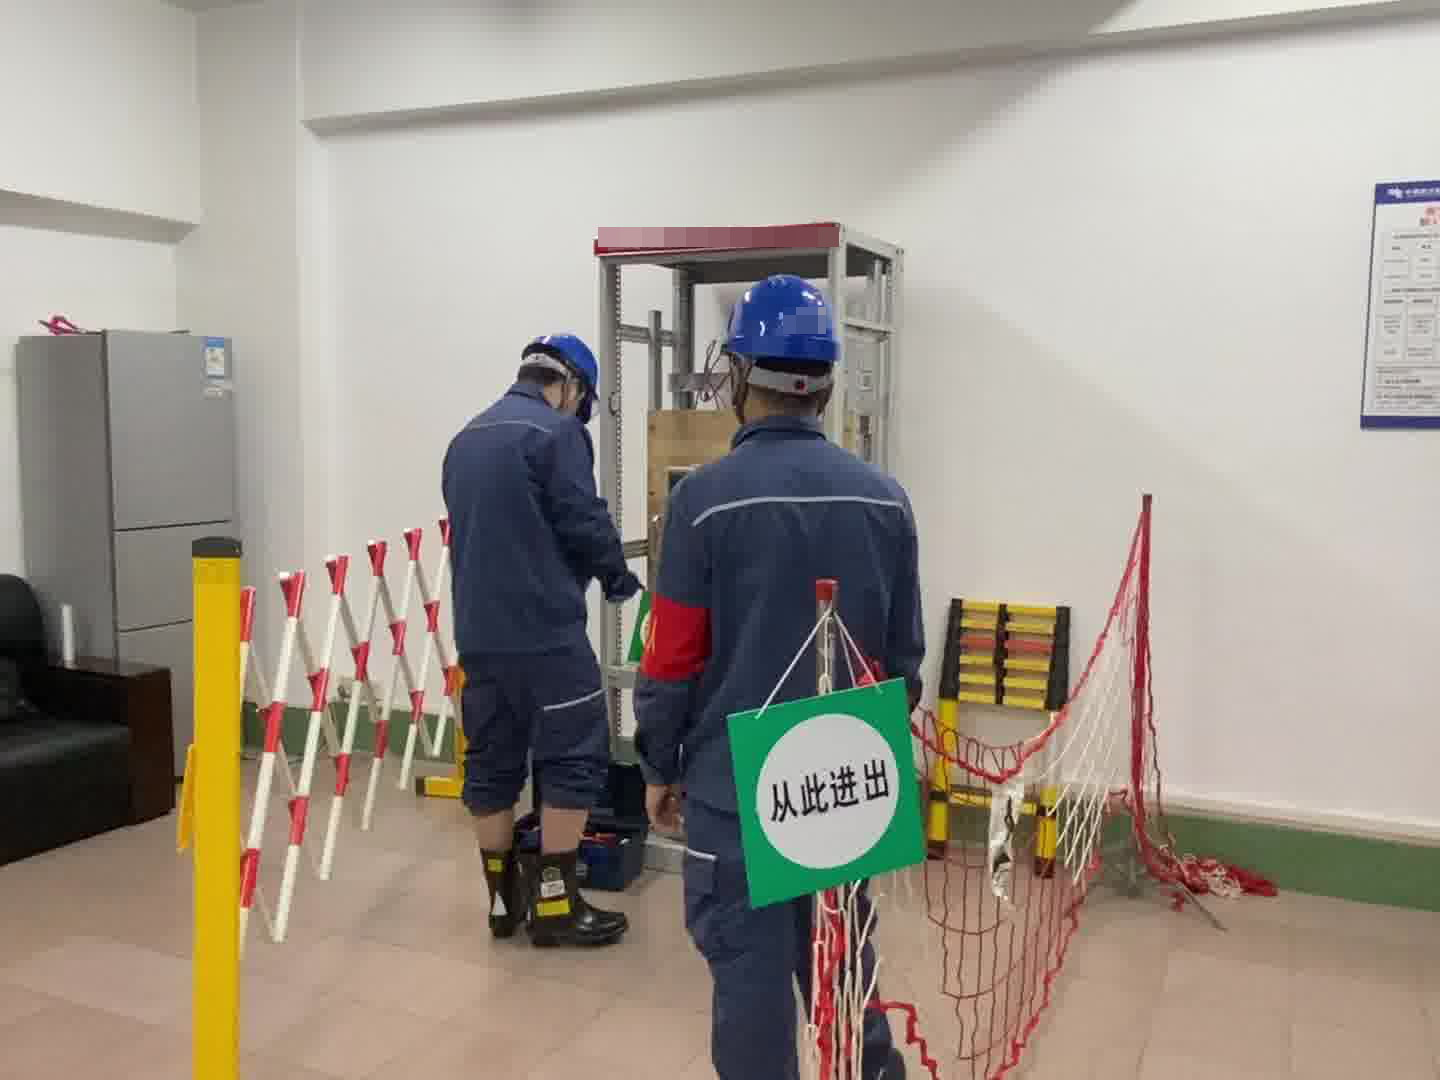badge: (639, 593, 714, 685)
downsuit: (672, 802, 901, 1074), (455, 664, 607, 820)
glove: (605, 564, 639, 600)
halt: (724, 274, 845, 414), (517, 332, 601, 415)
hand: (643, 785, 689, 837)
intosign: (718, 675, 922, 888)
person: (630, 269, 929, 1080), (441, 328, 634, 945)
shoe: (534, 860, 615, 936), (473, 852, 526, 931)
upsuit: (640, 418, 937, 761), (442, 391, 629, 658)
wrongbottom: (528, 752, 602, 854), (460, 741, 519, 861)
